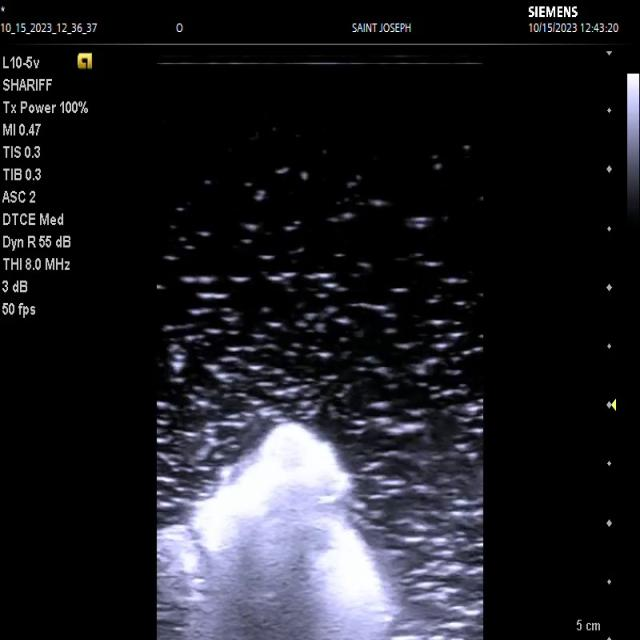tissue: (157, 422, 397, 640)
